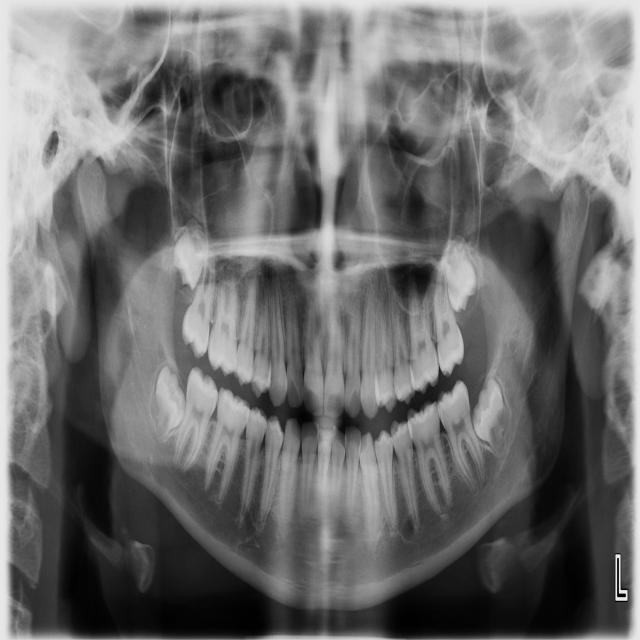mandibula: (81, 162, 592, 608)
